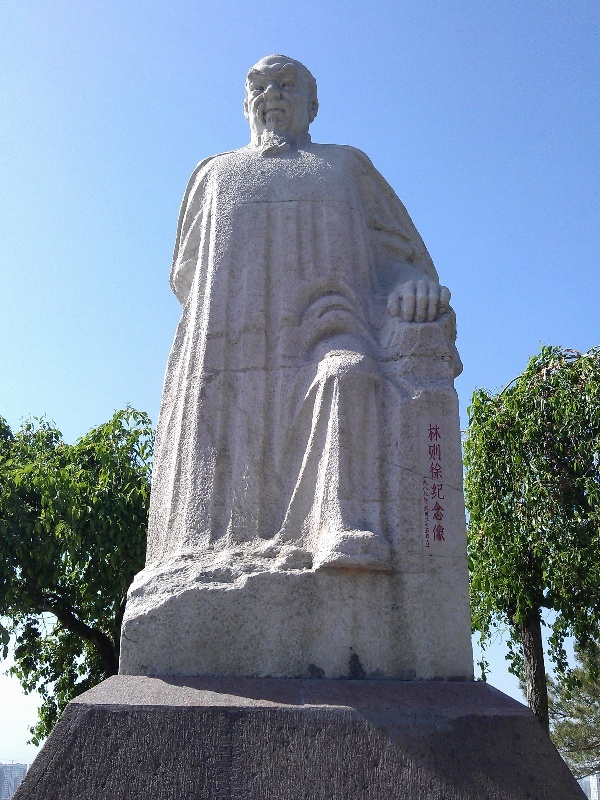text: (433, 424, 447, 543), (422, 476, 432, 550), (427, 424, 432, 543)
